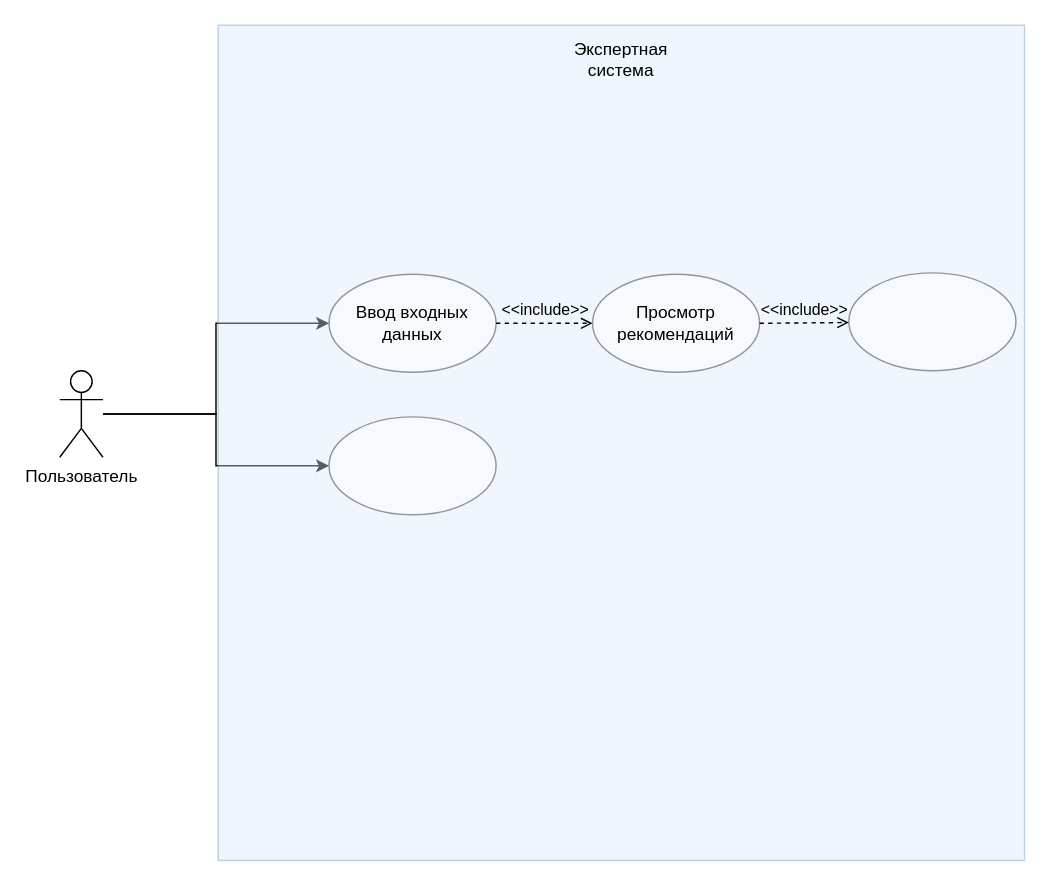
This 1050x886 diagram has some shape labels left out. Here are the shapes that lost their labels. From the top down, the centre of each, then its label:
At pixel 931 321: "Сохранение рекомендаций для быстрого доступа".
At pixel 412 465: "Отправка сообщений о недочетах в системе".
